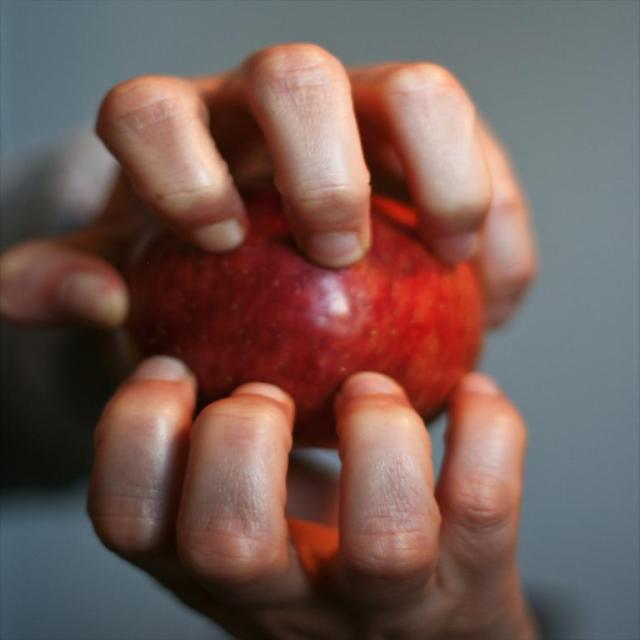Healty Apple: (121, 218, 496, 411)
